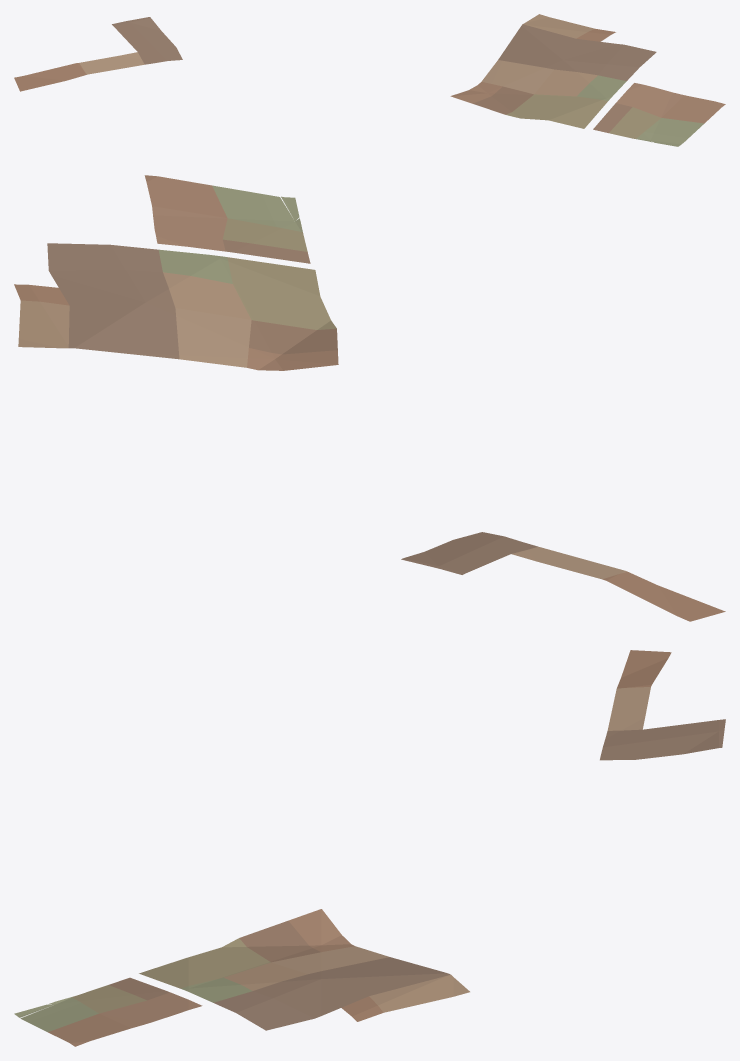
File: farm_22_21_soil.glb
3 renders of one model, top to bottom at view 1: azimuth 30°, elevation 25°; view 2: azimuth 150°, elevation 25°; view 3: azimuth 270°, elevation 25°, orthographic. The views are drawn at different scales.
Visible parts, largest first — view 1: geometry_0; view 2: geometry_0; view 3: geometry_0.
Part boxes in pixels (x1,y1,x2,y2): geometry_0: (14, 14, 725, 146); geometry_0: (14, 175, 725, 621); geometry_0: (14, 650, 725, 1046).
Size of the model in its own units: 553 by 32.86 by 430.
